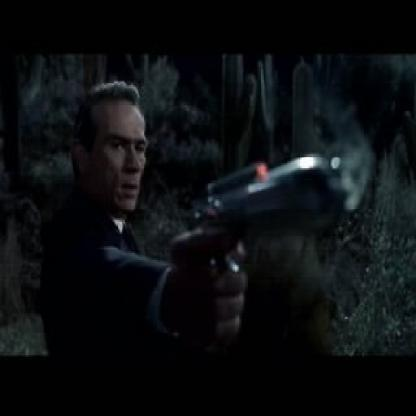Pistol: (164, 129, 360, 330)
